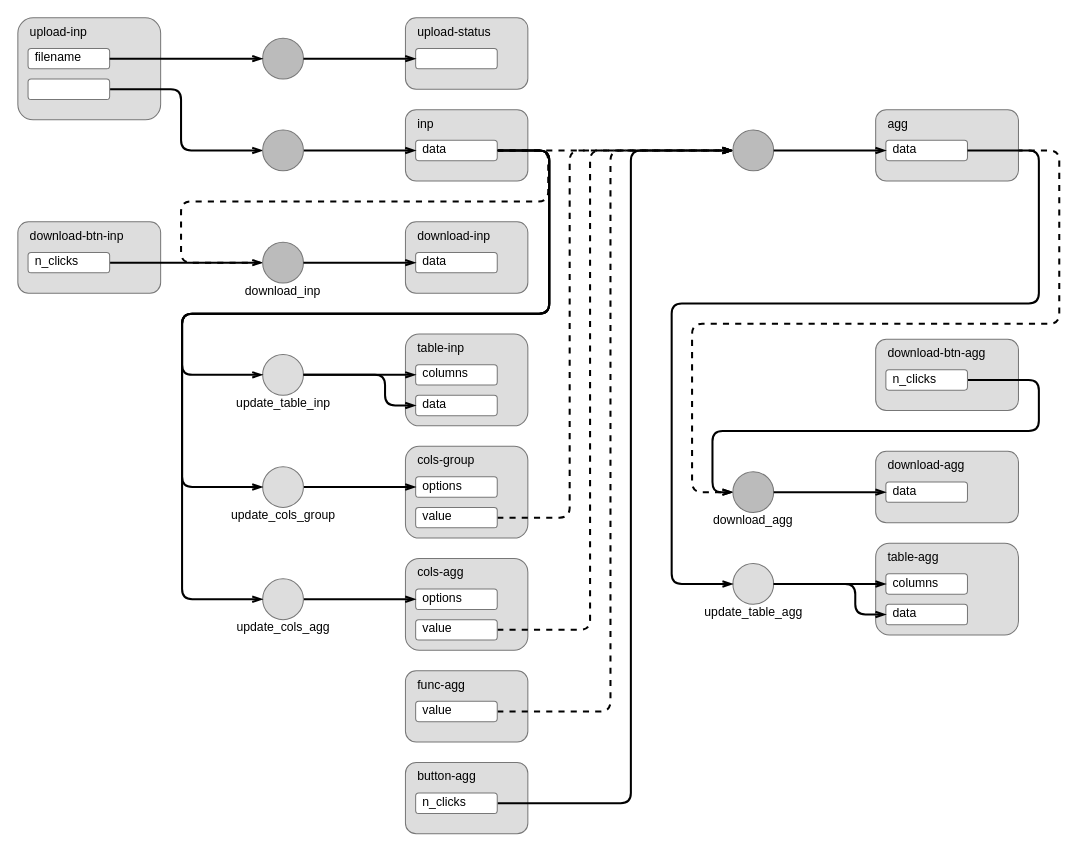
This 1086x852 diagram has some shape labels left out. Each missing label, with the centre of its shape:
aggregate: pixel 753 150
children: pixel 456 58
content: pixel 68 88
parse_input_file_contents: pixel 282 150
update_input_file_name: pixel 282 58
